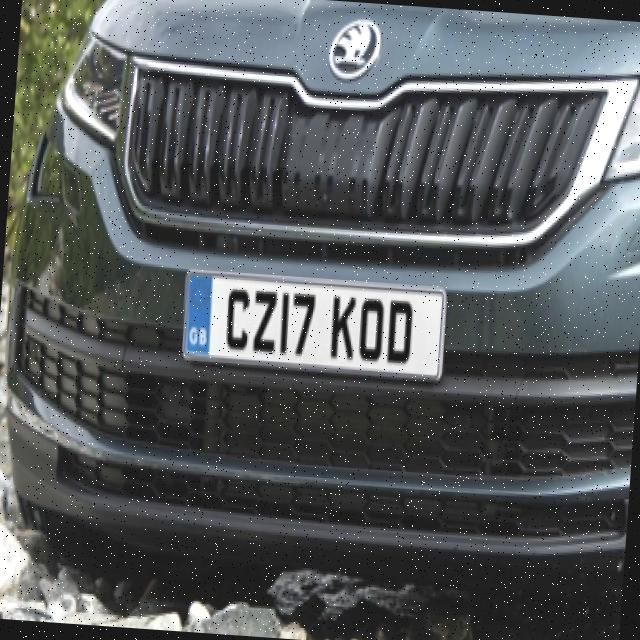Autre: (179, 267, 446, 385)
